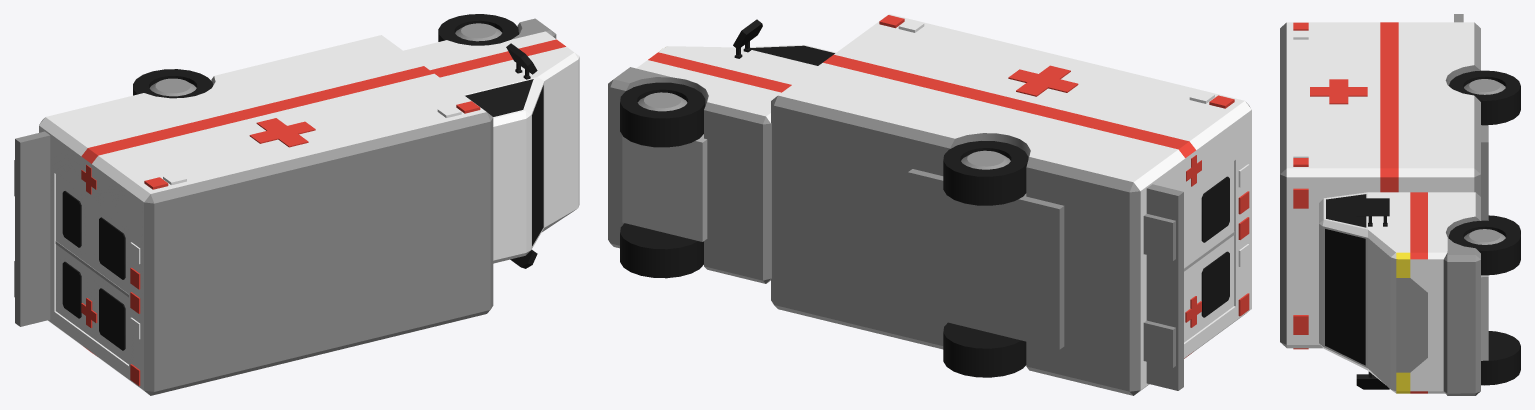
Rendered from fadae575-41dc-4ab0-a676-bbdae7381543.glb.
The picture shows the model from 3 angles, left to right: view 1: azimuth 30°, elevation 25°; view 2: azimuth 150°, elevation 25°; view 3: azimuth 270°, elevation 25°; orthographic projection. The views are drawn at different scales.
Parts seen in each view (by area): view 1: polySurface4; view 2: polySurface4; view 3: polySurface4.
Part boxes in pixels (x1=…): polySurface4: x1=14, y1=14, x2=579, y2=395; polySurface4: x1=608, y1=14, x2=1251, y2=395; polySurface4: x1=1280, y1=14, x2=1520, y2=395.
Size of the model in its own units: 706 by 272 by 311.
